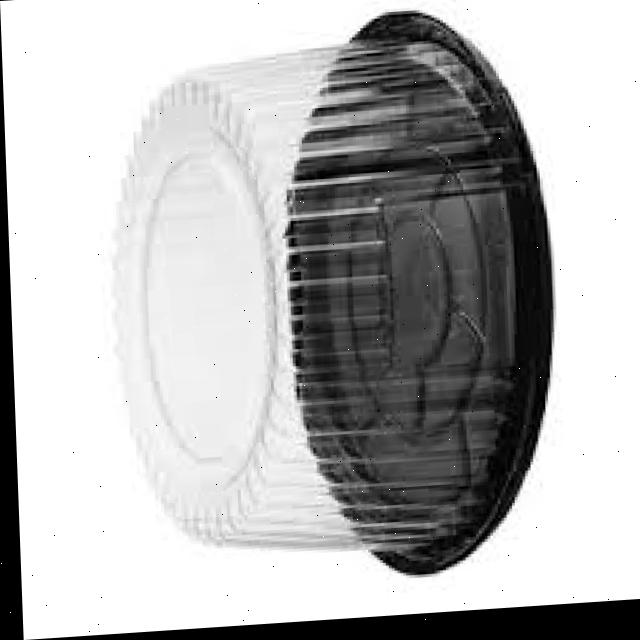disposable: (89, 0, 568, 602)
